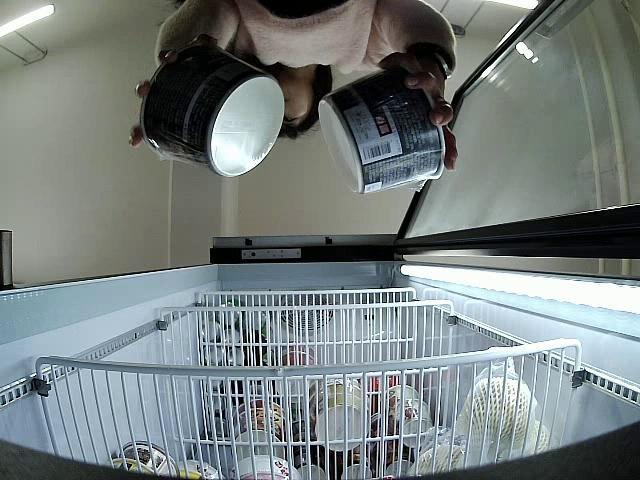07_buldak_L: (139, 44, 284, 177), (318, 64, 445, 192)
